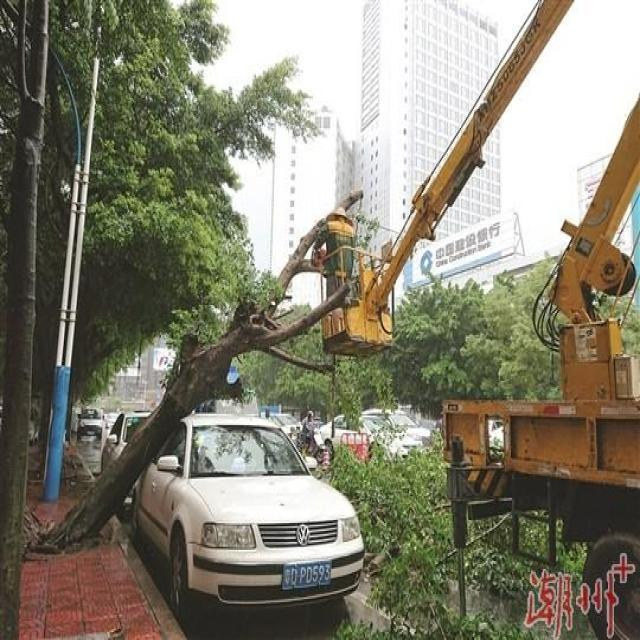fallen_object: (27, 267, 350, 558)
